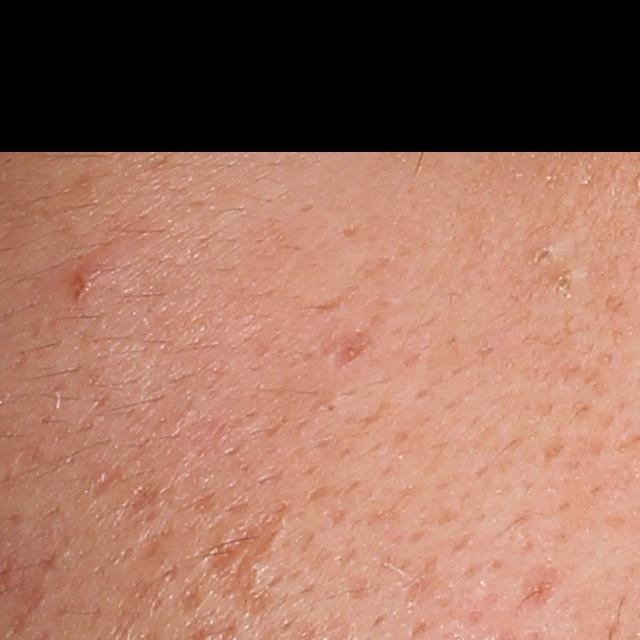atrophic_scar: (209, 502, 291, 588), (515, 561, 562, 613)
comedo: (550, 274, 576, 296), (529, 245, 556, 264)
papule: (69, 260, 105, 295)
